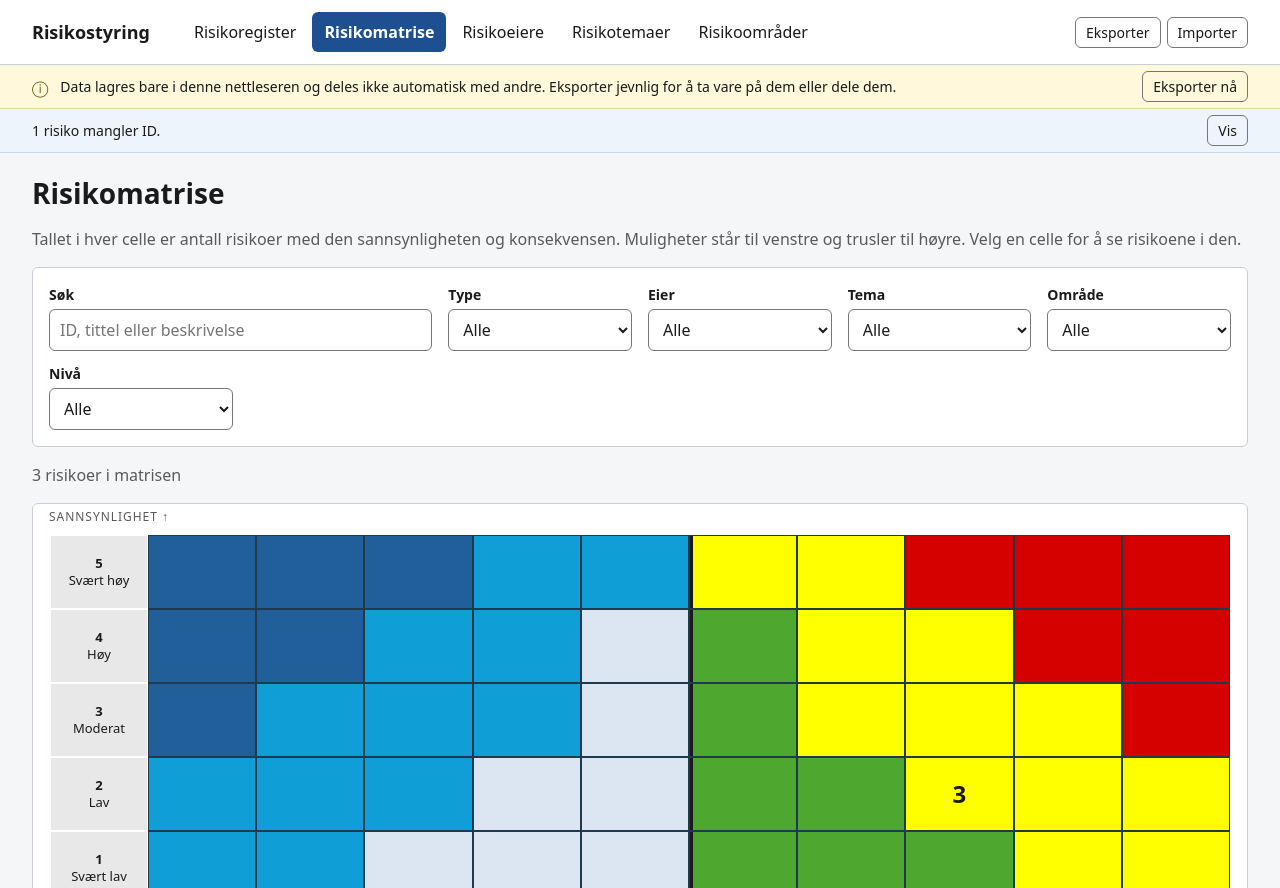
Scenario: varsel om elementer uten ID (spec 004, K54) › åpner risikoen fra lenken
The width and height of the screenshot is (1280, 888).
Expected: the heading "Risikomatrise" is shown, left=32, top=174, right=224, bottom=212
Click the button "Vis": (1228, 130) left=1207, top=115, right=1248, bottom=146
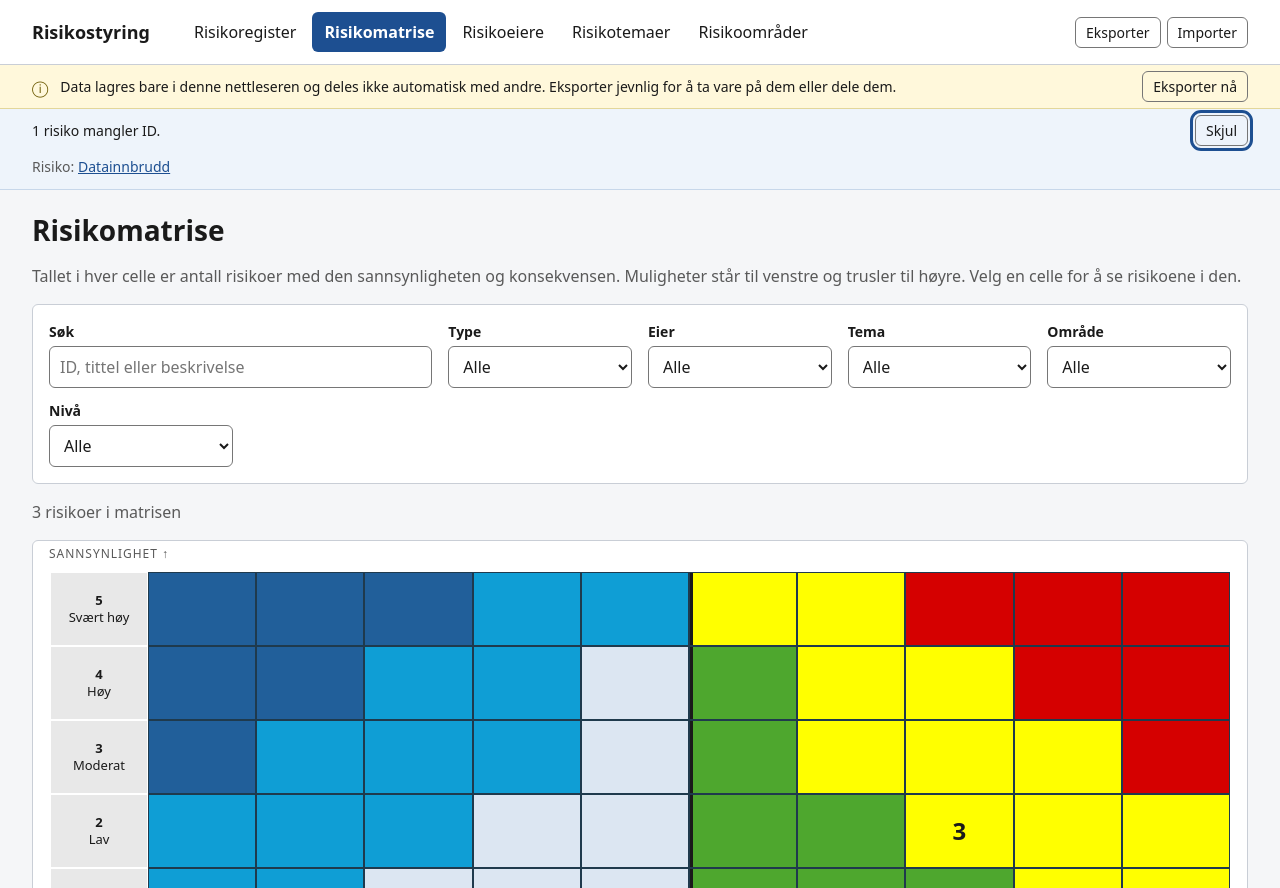
Click the link "Datainnbrudd": (124, 166) left=78, top=157, right=170, bottom=176
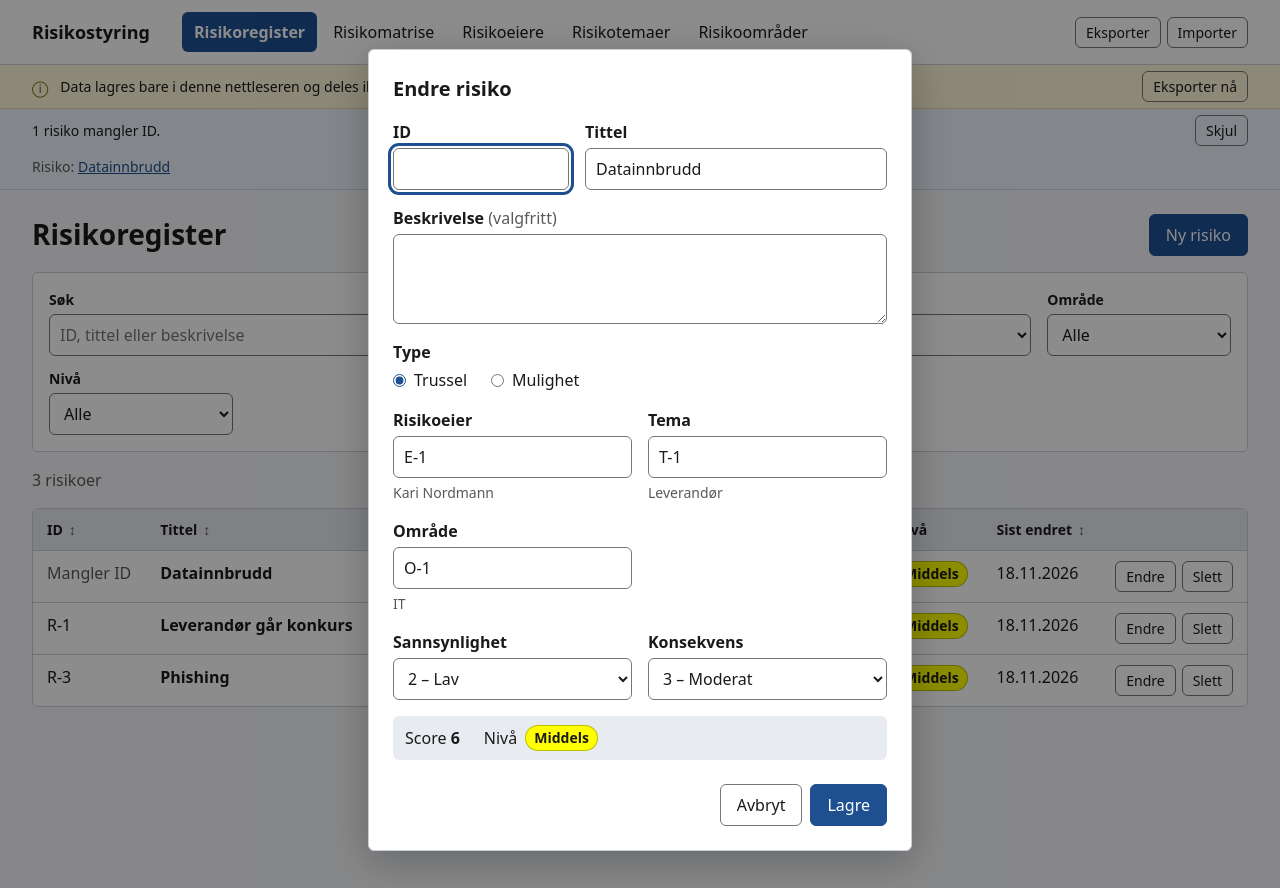
Expected: the field labelled "Tittel" holds "Datainnbrudd", left=585, top=148, right=887, bottom=190
